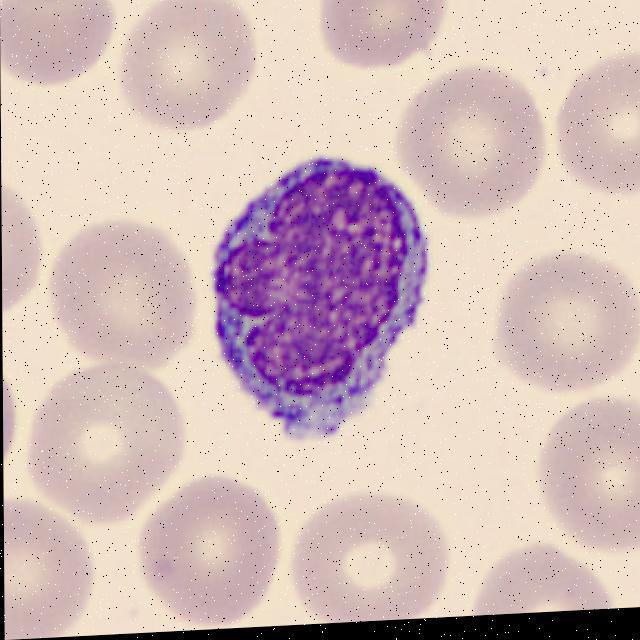monocyte: (191, 130, 448, 438)
rbc: (19, 353, 193, 530), (483, 244, 640, 405), (406, 65, 550, 229), (282, 491, 453, 626), (48, 209, 193, 368), (103, 0, 261, 144), (144, 481, 276, 629), (522, 400, 640, 559), (552, 50, 640, 200), (4, 493, 93, 640), (313, 0, 473, 81), (0, 0, 133, 94), (469, 544, 612, 616), (1, 169, 47, 329)
